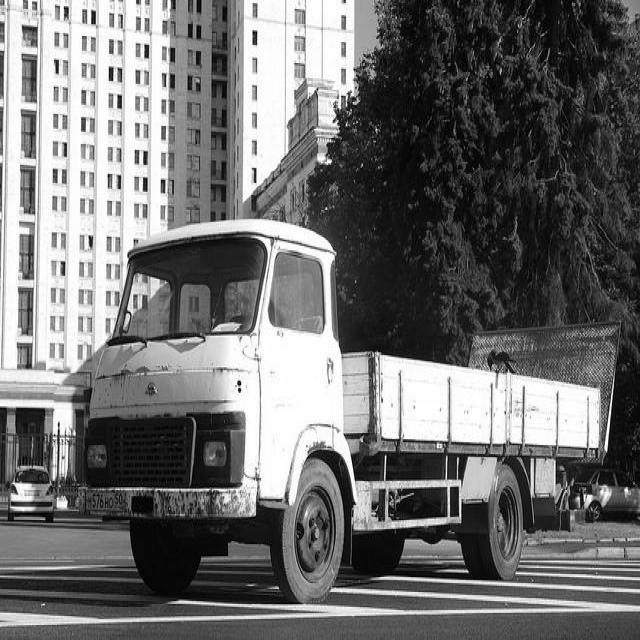vehicle: (84, 219, 620, 607), (568, 471, 640, 525), (7, 466, 54, 521)
